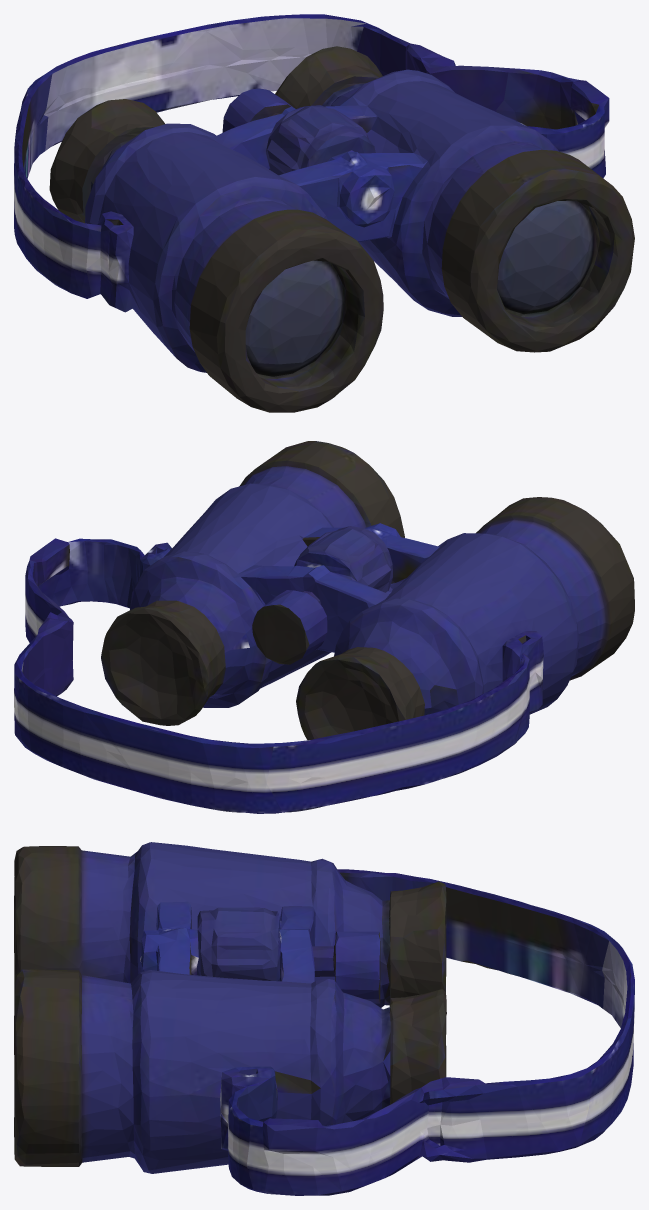
File: binoculars.glb
3 views of the same model, one above another, from view 1: azimuth 30°, elevation 25°; view 2: azimuth 150°, elevation 25°; view 3: azimuth 270°, elevation 25° (orthographic). The views are drawn at different scales.
Visible parts, largest first — view 1: tmpenpu948f.ply; view 2: tmpenpu948f.ply; view 3: tmpenpu948f.ply.
Boxes of the visible parts, <box> form: tmpenpu948f.ply: <box>14,14,634,412</box>; tmpenpu948f.ply: <box>14,441,634,813</box>; tmpenpu948f.ply: <box>14,842,634,1195</box>.
Bounding box in the file's own units: 1.99 × 0.6977 × 2.
1 material, 1 textured.
